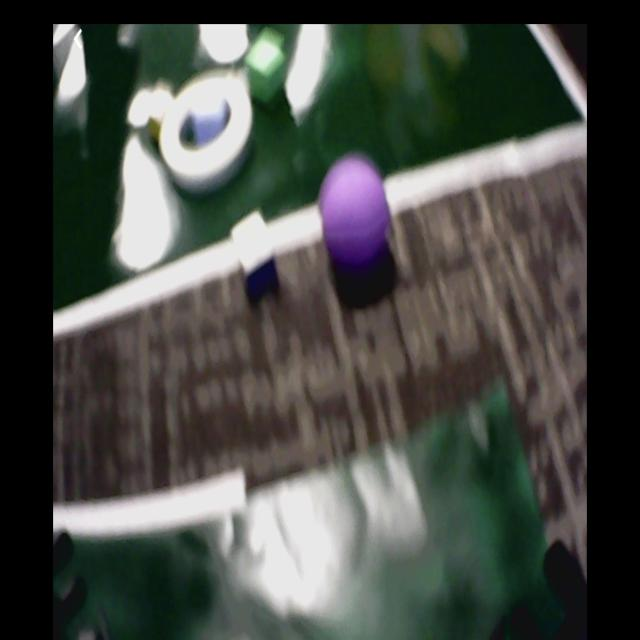ball: (319, 155, 391, 263)
